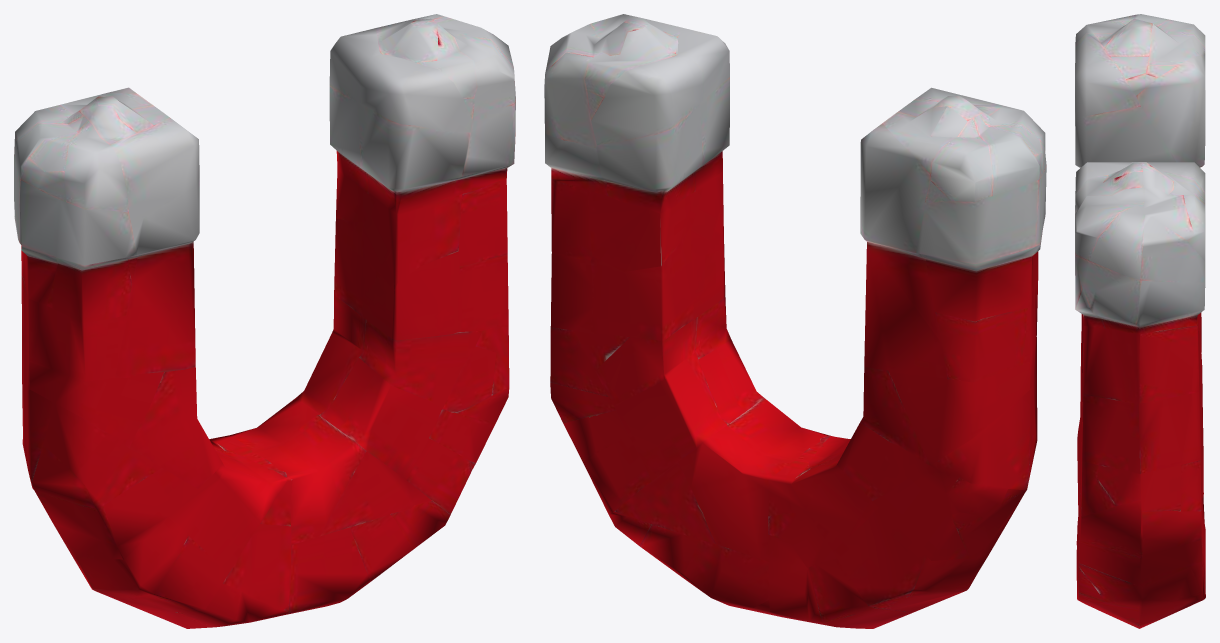
File: magnet.glb
3 views of the same model, side by side, from view 1: azimuth 30°, elevation 25°; view 2: azimuth 150°, elevation 25°; view 3: azimuth 270°, elevation 25° (orthographic). The views are drawn at different scales.
Visible parts, largest first — view 1: mesh_node; view 2: mesh_node; view 3: mesh_node.
Boxes of the visible parts, x1,y1,x2,y2 form: mesh_node: (14,14,515,628); mesh_node: (544,14,1046,628); mesh_node: (1075,14,1205,628).
Size of the model in its own units: 1.75 by 1.9 by 0.439.
1 material, 1 textured.
